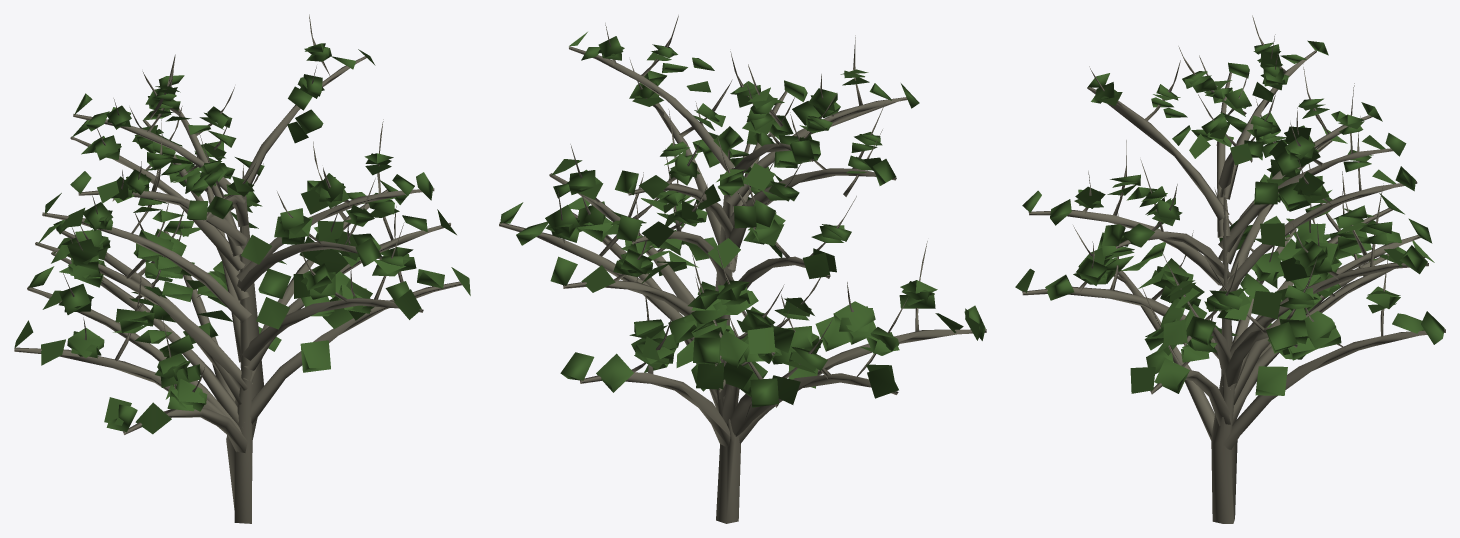
File: Tree_PinOak_001.fbx
3 renders of one model, left to right at view 1: azimuth 30°, elevation 25°; view 2: azimuth 150°, elevation 25°; view 3: azimuth 270°, elevation 25°, orthographic. The views are drawn at different scales.
Visible parts, largest first — view 1: Tree_PinOak.001; view 2: Tree_PinOak.001; view 3: Tree_PinOak.001.
Boxes of the visible parts, x1,y1,x2,y2 form: Tree_PinOak.001: (14,14,470,523); Tree_PinOak.001: (499,15,986,523); Tree_PinOak.001: (1015,15,1445,523).
Bounding box in the file's own units: 1747 × 2014 × 1665.
